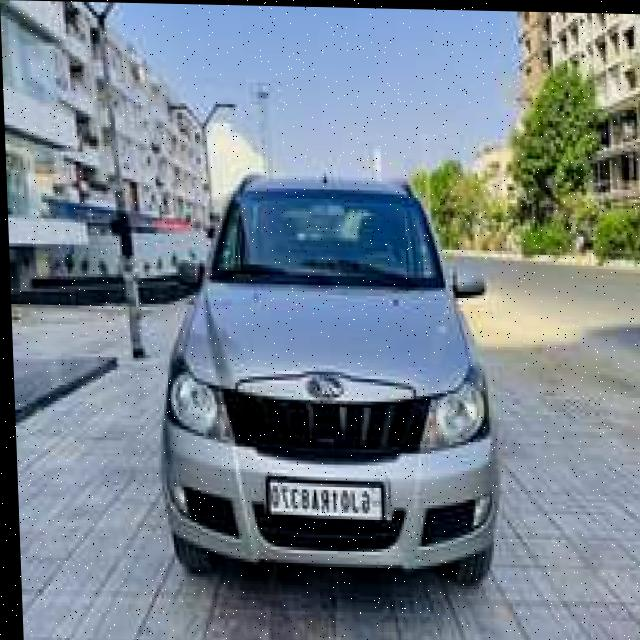plate: (259, 474, 384, 524)
